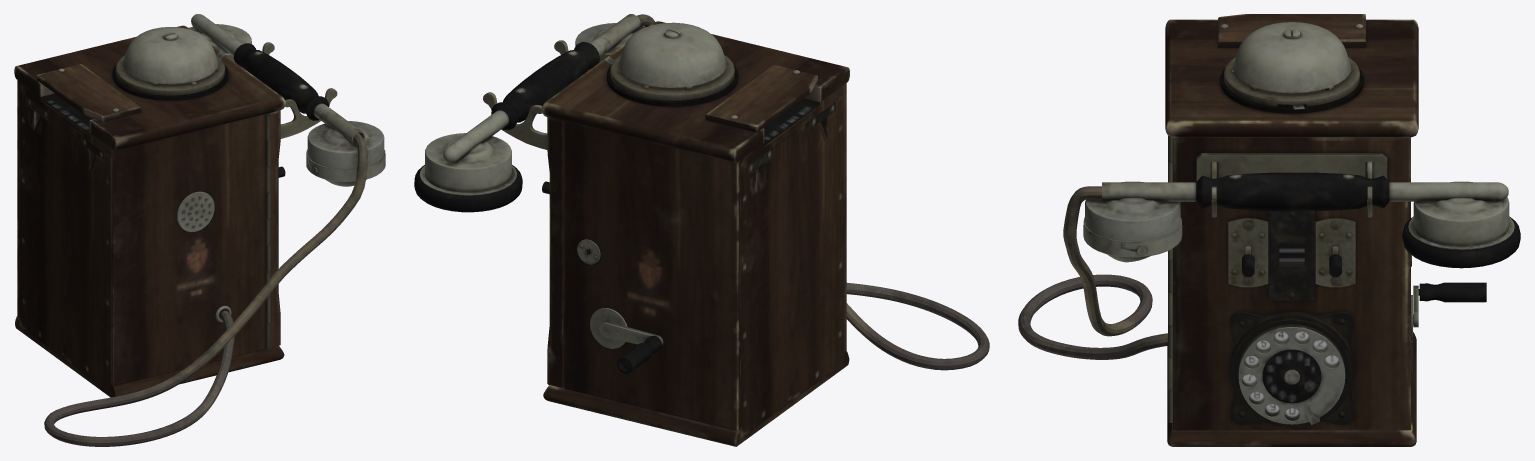
The model's file is telephone-desk.glb.
The picture shows the model from 3 angles, left to right: view 1: azimuth 30°, elevation 25°; view 2: azimuth 150°, elevation 25°; view 3: azimuth 270°, elevation 25°; orthographic projection. The views are drawn at different scales.
Parts seen in each view (by area): view 1: telephone-desk; view 2: telephone-desk; view 3: telephone-desk.
Boxes of the visible parts, <box> form: telephone-desk: <box>14,14,385,446</box>; telephone-desk: <box>414,14,989,446</box>; telephone-desk: <box>1018,14,1520,446</box>.
Size of the model in its own units: 0.3604 by 0.3 by 0.3617.
2 materials, 1 textured.
